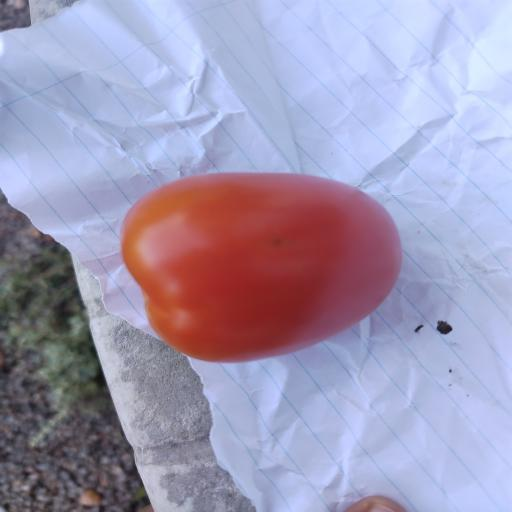ripe: (122, 173, 401, 362)
